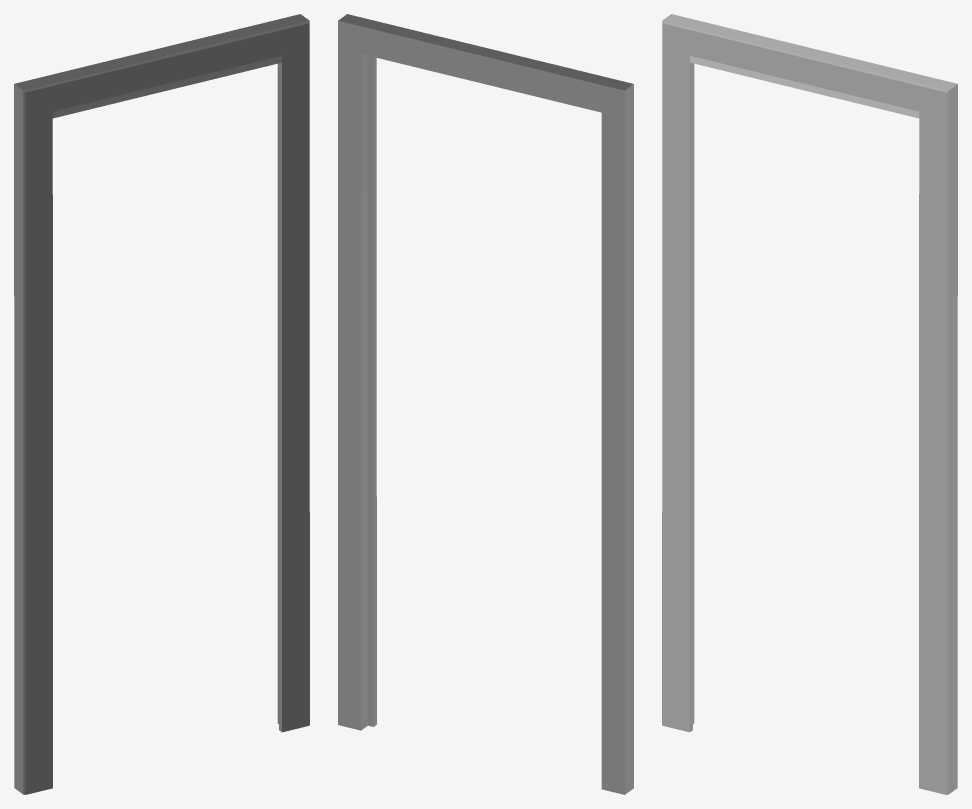
File: FP405:polySurface161_cee4a0cd.obj
3 renders of one model, left to right at view 1: azimuth 30°, elevation 25°; view 2: azimuth 150°, elevation 25°; view 3: azimuth 330°, elevation 25°, orthographic.
Visible parts, largest first — view 1: FP405:polySurface161_cee4a0cd; view 2: FP405:polySurface161_cee4a0cd; view 3: FP405:polySurface161_cee4a0cd.
Boxes of the visible parts, <box> form: FP405:polySurface161_cee4a0cd: <box>14,14,309,794</box>; FP405:polySurface161_cee4a0cd: <box>338,14,633,794</box>; FP405:polySurface161_cee4a0cd: <box>662,14,957,794</box>.
Bounding box in the file's own units: 0.9414 × 2.21 × 0.0578.
